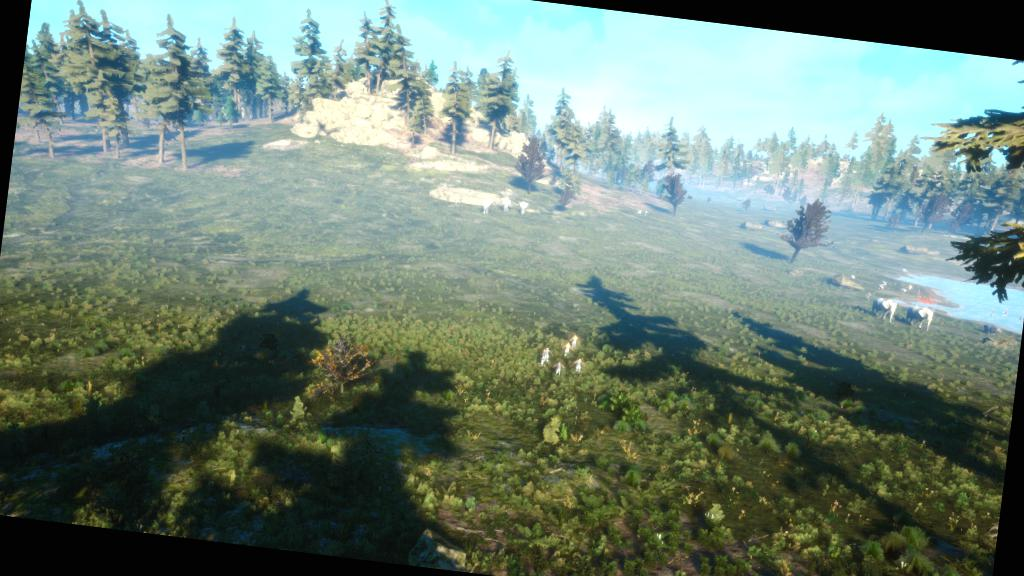elephant: (901, 296, 945, 340), (866, 289, 906, 331), (477, 189, 499, 224), (516, 193, 534, 221), (497, 194, 514, 222)
human: (527, 311, 599, 398)
